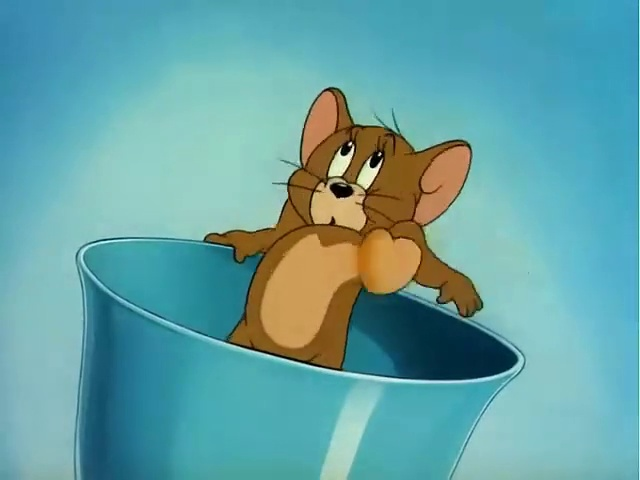jerry: (172, 39, 526, 356)
